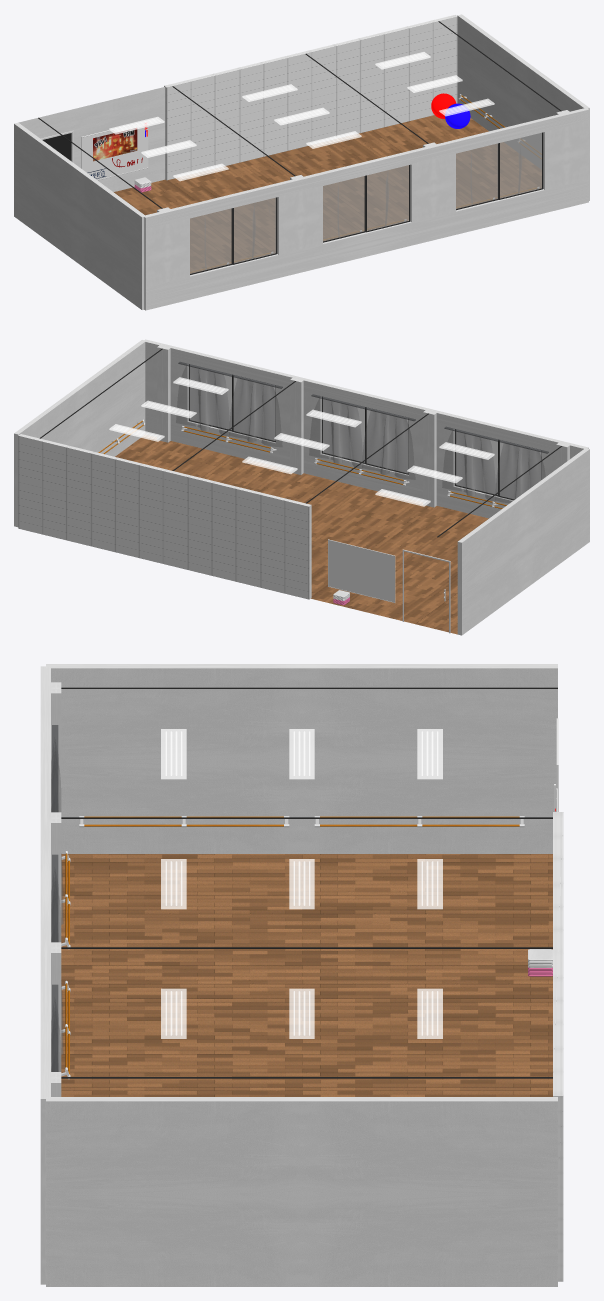
The model's file is Dance Studio_haihuyou_plus mirror.glb.
3 renders of one model, top to bottom at view 1: azimuth 30°, elevation 25°; view 2: azimuth 150°, elevation 25°; view 3: azimuth 270°, elevation 25°, orthographic. The views are drawn at different scales.
Parts seen in each view (by area): view 1: Cube (2) (×2), Plane (×2), garasu (×6), Cube (1), Cube (×10), Cube (3), Cube (4), Cube (5), Cube (6), Cube (7), boad, postor (+3 smaller); view 2: Cube (2) (×2), Plane, Box001 (×3), Cube (1), garasu (×6), Cube (×10), Cube (3), boad, Cube (7), Cube (6), Cube (4), Cube (10) (+2 smaller); view 3: Plane, Cube (×10), Cube (1), Cube (3), Cube (2), Box001 (×2), Cube (9), Cube (11), Cube (10), Cube (13), Cube (12), Cube (14) (+1 smaller).
Boxes of the visible parts, x1,y1,x2,y2 form: Cube (2) (×2): [144, 15, 588, 310]; Plane (×2): [18, 15, 541, 273]; garasu (×6): [190, 132, 541, 273]; Cube (1): [14, 122, 145, 309]; Cube (×10): [109, 14, 589, 200]; Cube (3): [144, 107, 588, 229]; Cube (4): [543, 121, 588, 189]; Cube (5): [144, 218, 189, 287]; Cube (6): [410, 153, 455, 222]; Cube (7): [277, 186, 322, 254]; boad: [81, 123, 147, 179]; postor: [93, 128, 137, 161]; Cube (2) (×2): [18, 411, 513, 599]; Plane: [115, 435, 488, 634]; Box001 (×3): [176, 362, 548, 502]; Cube (1): [457, 448, 589, 635]; garasu (×6): [190, 364, 541, 499]; Cube (×10): [14, 340, 494, 527]; Cube (3): [144, 339, 588, 457]; boad: [328, 540, 394, 602]; Cube (7): [409, 418, 454, 486]; Cube (6): [276, 385, 321, 453]; Cube (4): [145, 353, 188, 421]; Cube (10): [290, 378, 303, 474]; Plane: [61, 854, 552, 1096]; Cube (×10): [46, 729, 557, 1286]; Cube (1): [46, 664, 557, 853]; Cube (3): [40, 666, 50, 1122]; Cube (2): [553, 812, 563, 1281]; Box001 (×2): [51, 725, 63, 1054]; Cube (9): [51, 682, 61, 812]; Cube (11): [51, 812, 61, 942]; Cube (10): [51, 942, 61, 1071]; Cube (13): [61, 687, 557, 688]; Cube (12): [61, 1077, 552, 1078]; Cube (14): [61, 947, 552, 948].
Bounding box in the file's own units: 20.2 × 4.03 × 10.2.
Materials: 19 (10 with a texture image).
